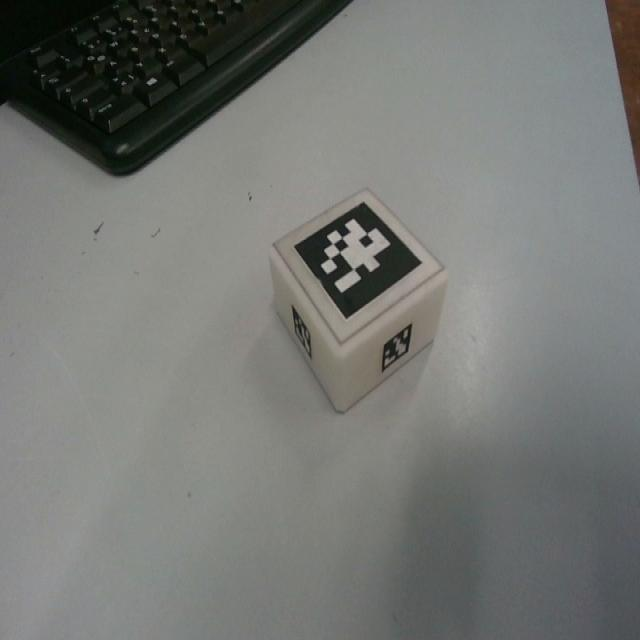Cube: (267, 185, 448, 414)
